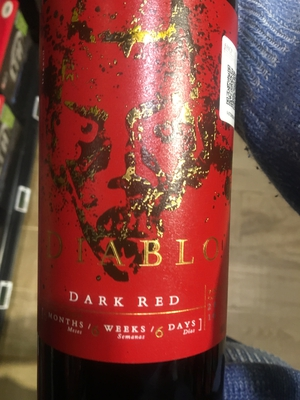diablo dark red: (34, 2, 254, 400)
